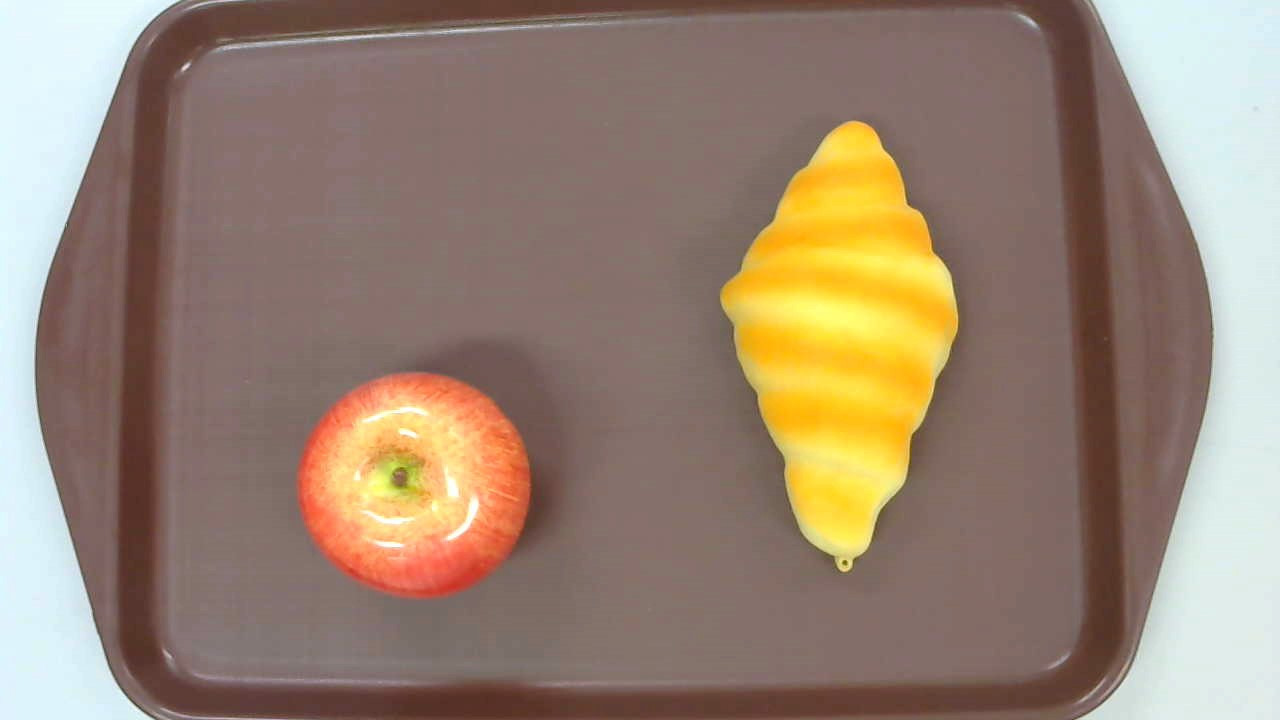croissant: (718, 119, 958, 572)
red apple: (297, 372, 531, 599)
